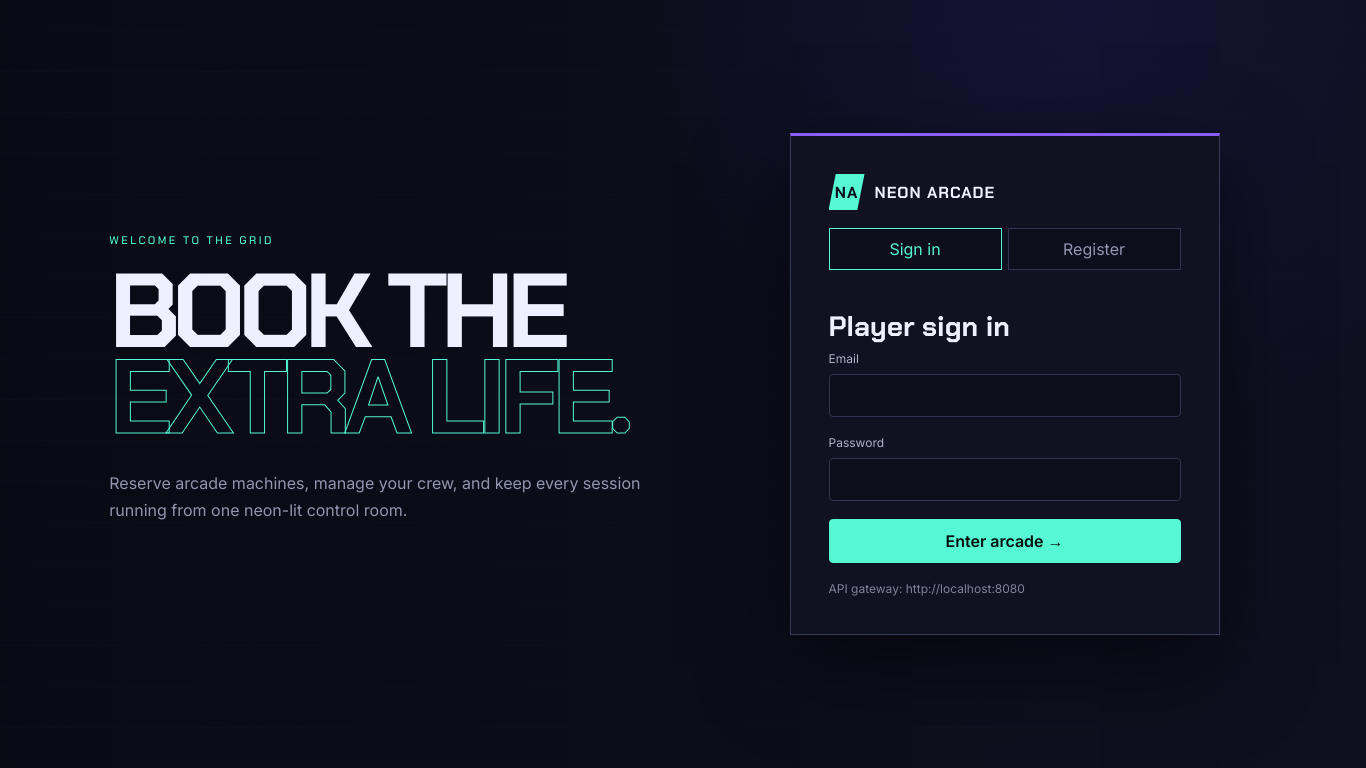
Test case: protected routing and sessions › sends an administrator to the admin portal even if login started from a customer path
In the field labelled "Email": (1004, 396) x1=828 y1=374 x2=1180 y2=417, type "player@example.com"
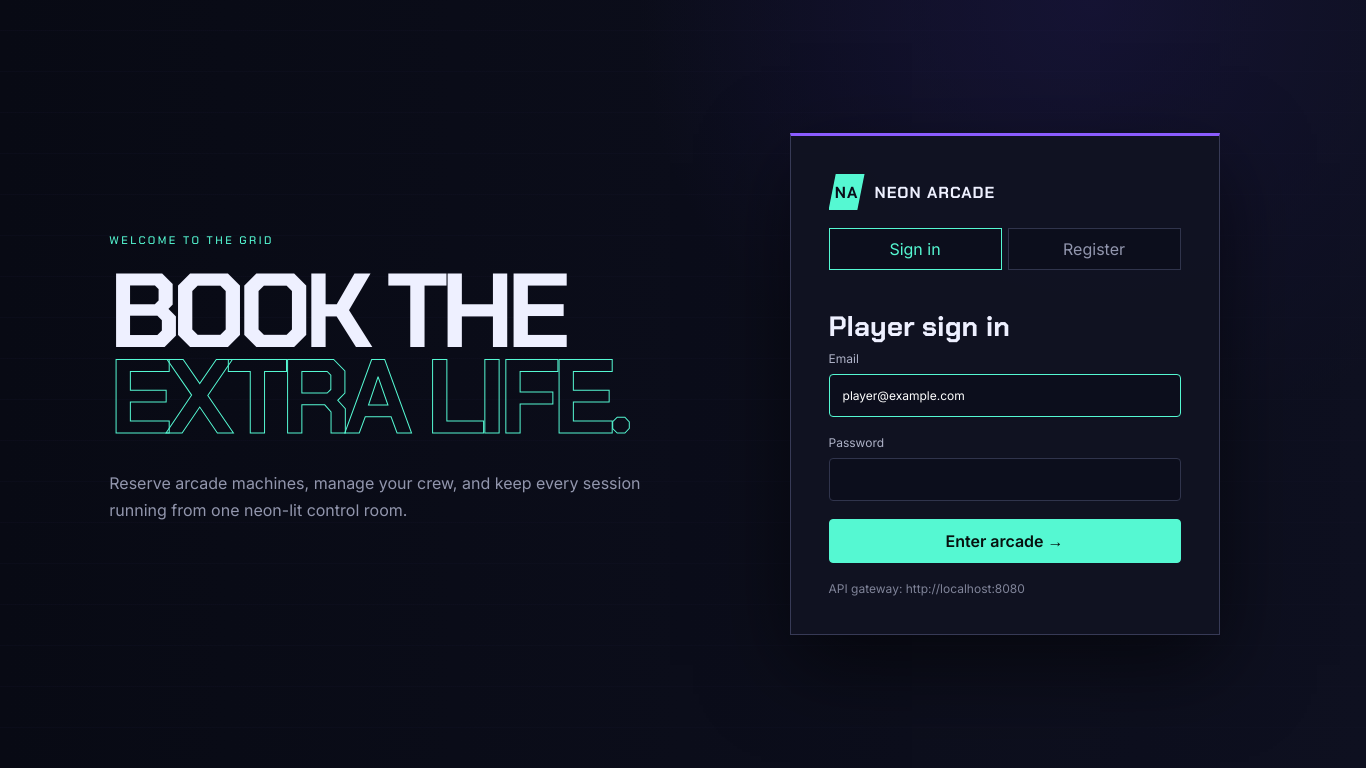
In the password field labelled "Password": (1004, 480) x1=828 y1=458 x2=1180 y2=501, type "password123"
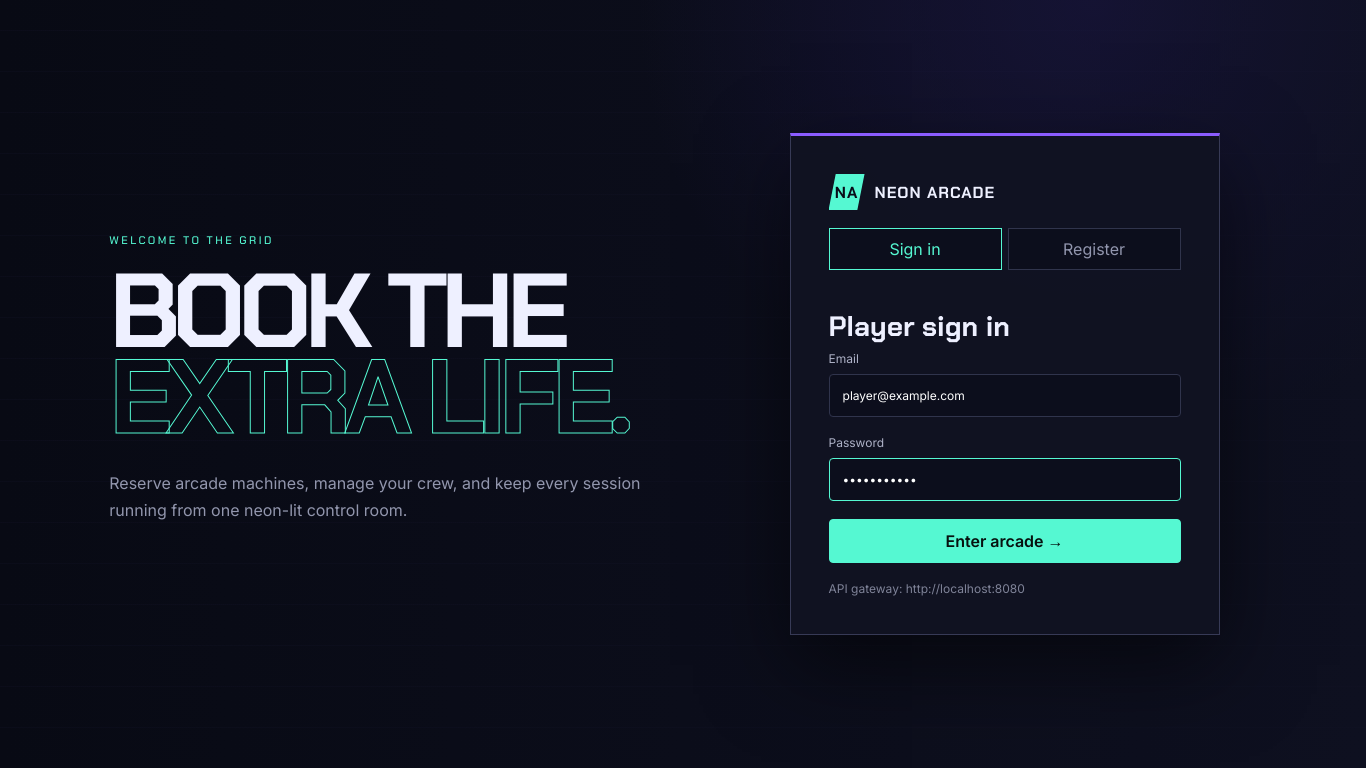
Click the button "Enter arcade →": (1004, 541) x1=828 y1=519 x2=1180 y2=563
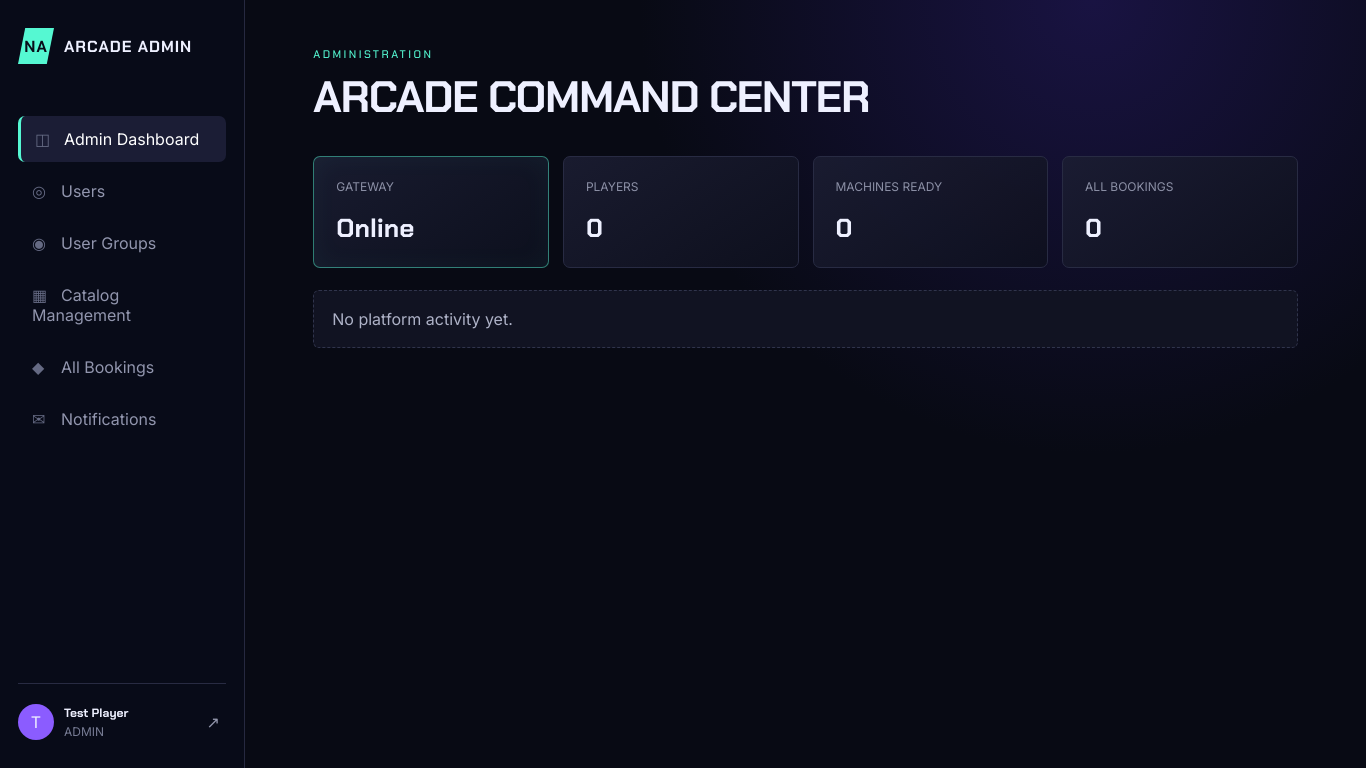
expect the heading "Arcade command center" is shown: met, box x1=313 y1=68 x2=869 y2=126
expect the link "◎ Users" is shown: met, box x1=32 y1=181 x2=105 y2=201
